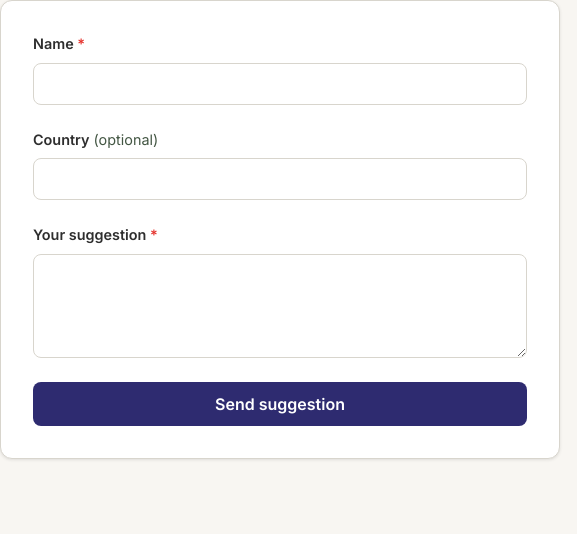
Test: SuggestionForm › clears a field error once the visitor fixes it and resubmits
Click the button "Send suggestion": (280, 404) left=33, top=382, right=527, bottom=426
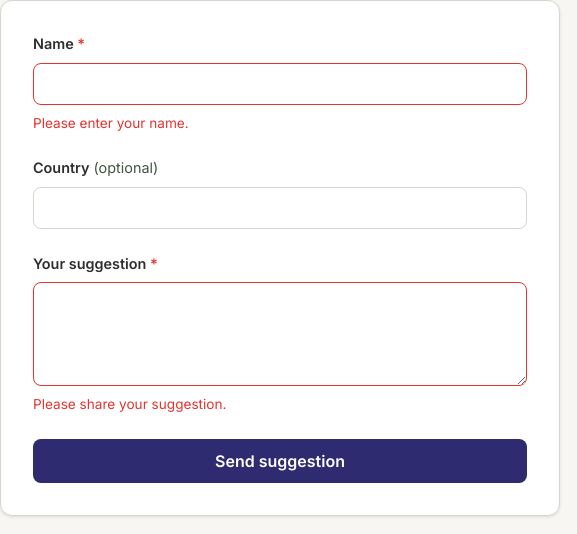
expect the text "Please enter your name." is shown: met, box left=33, top=115, right=189, bottom=131
In the field labelled "Name *": (280, 84) left=33, top=63, right=527, bottom=105, type "Sven"
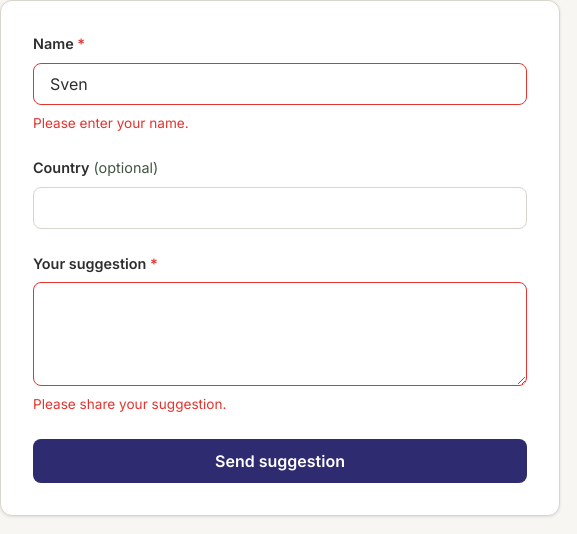
In the text box labelled "Your suggestion *": (280, 334) left=33, top=282, right=527, bottom=386, type "Build a STOL plane"
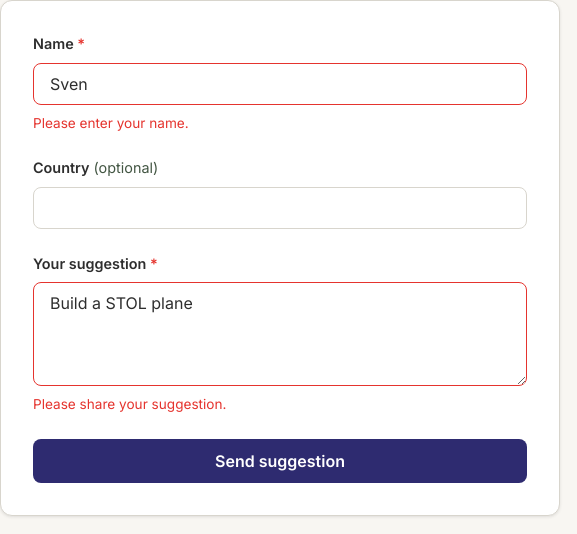
Click the button "Send suggestion": (280, 461) left=33, top=439, right=527, bottom=483
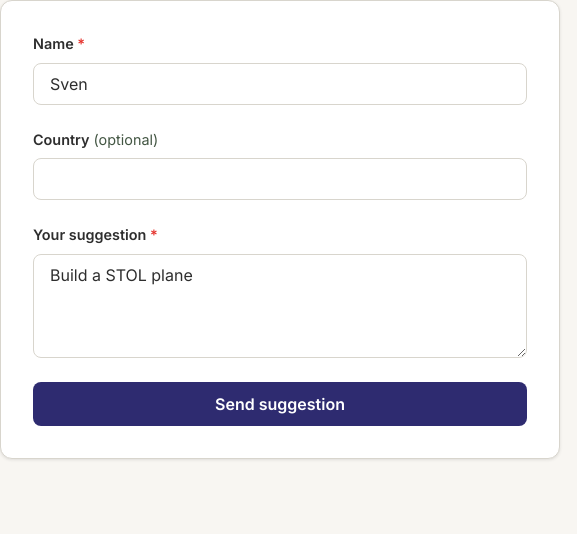
expect the text "Please enter your name." is gone: met
